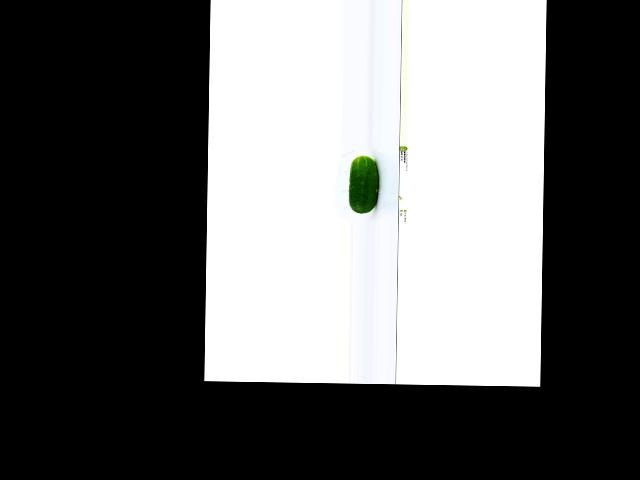cucumber: (349, 156, 379, 214)
